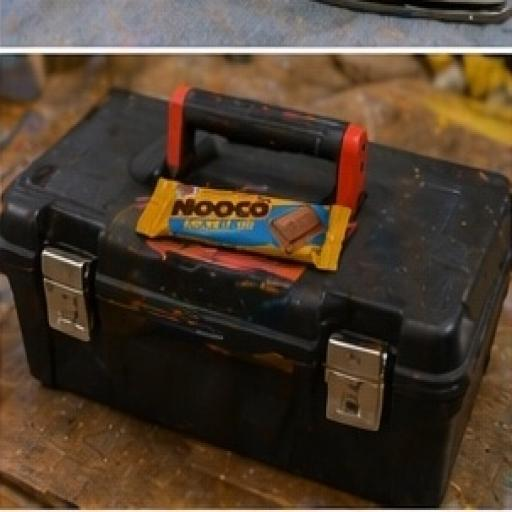nooco: (136, 137, 380, 303)
